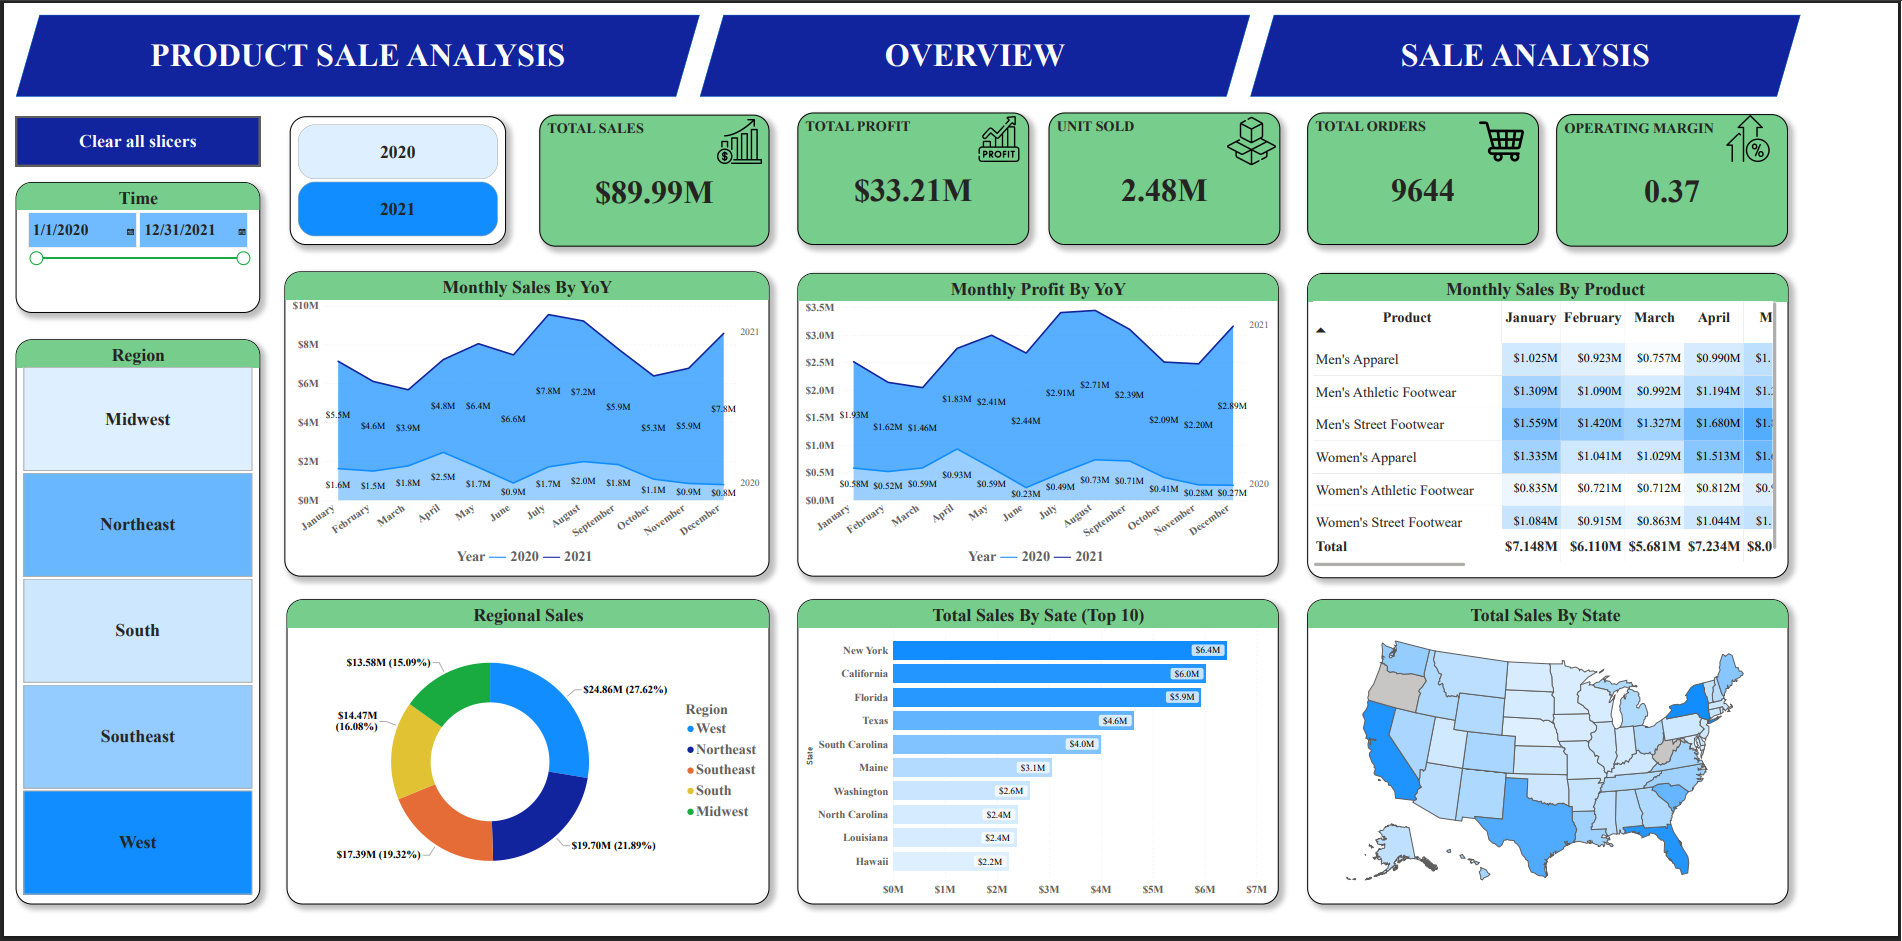

What the dashboard file says about the page in this screenshot:
{"tool":"powerbi","page":{"name":"OVERVIEW","canvas":[3500,1700],"ordinal":0},"visuals":[{"type":"shape","box":[0,0,1280,153.3],"z":0},{"type":"card","title":"TOTAL SALES","fields":{"Values":["Measures..Total Sales"]},"box":[980,186.7,430,246.7],"z":1000},{"type":"card","title":"TOTAL PROFIT","fields":{"Values":["Measures..Total Profit"]},"box":[1463.3,183.3,433.3,246.7],"z":2000,"group":"g1"},{"type":"card","title":"TOTAL ORDERS","fields":{"Values":["Measures..Total Orders"]},"box":[2416.7,183.3,433.3,246.7],"z":2000,"group":"g3"},{"type":"stackedAreaChart","title":"Monthly Sales By YoY","fields":{"Category":["SportProducts.Invoice Date.Variation.Date Hierarchy.Month"],"Series":["SportProducts.Invoice Date.Variation.Date Hierarchy.Year"],"Y":["Measures..Total Sales"]},"box":[503.3,480,906.7,570],"z":2000},{"type":"card","title":"UNIT SOLD","fields":{"Values":["Measures..Unit Sold"]},"box":[1933.3,183.3,433.3,246.7],"z":3000,"group":"g2"},{"type":"stackedAreaChart","title":"Monthly Profit By YoY","fields":{"Category":["SportProducts.Invoice Date.Variation.Date Hierarchy.Month"],"Series":["SportProducts.Invoice Date.Variation.Date Hierarchy.Year"],"Y":["Measures..Total Profit"]},"box":[1463.3,483.3,900,566.7],"z":3000},{"type":"card","title":"OPERATING MARGIN","fields":{"Values":["Measures..Profit Margin"]},"box":[2883.3,186.6,433.3,246.7],"z":4000,"group":"g4"},{"type":"donutChart","title":"Regional Sales ","fields":{"Y":["Measures..Total Sales"],"Category":["dim_Region.Region"]},"box":[506.7,1093.3,903.3,570],"z":4000},{"type":"pivotTable","title":"Monthly Sales By Product","fields":{"Rows":["dim_Product.Product"],"Columns":["SportProducts.Invoice Date.Variation.Date Hierarchy.Month"],"Values":["Measures..Total Sales"]},"box":[2416.7,483.3,900,570],"z":5000},{"type":"shapeMap","title":"Total Sales By State","fields":{"Value":["Measures..Total Sales"],"Category":["dim_Region.State"]},"box":[2416.7,1093.3,900,570],"z":6000},{"type":"clusteredBarChart","title":"Total Sales By Sate (Top 10)","fields":{"Category":["dim_Region.State"],"Y":["Measures..Total Sales"]},"box":[1463.3,1093.3,900,570],"z":7000},{"type":"advancedSlicerVisual","title":"Region","fields":{"Values":["dim_Region.Region"]},"box":[0,606.7,456.7,1056.7],"z":8000},{"type":"advancedSlicerVisual","title":"Region","fields":{"Values":["SportProducts.Invoice Date.Variation.Date Hierarchy.Year"]},"box":[513.3,190,403.3,240],"z":9000},{"type":"actionButton","box":[0,190,456.7,93.3],"z":10000},{"type":"slicer","title":"Time","fields":{"Values":["SportProducts.Invoice Date"]},"box":[0,313.3,456.7,243.3],"z":11000},{"type":"shape","box":[1280,0,1030,153.3],"z":12000},{"type":"shape","box":[2310,0,1030,153.3],"z":13000},{"type":"image","box":[1292.7,190,123.3,93.3],"z":14000},{"type":"group","id":"g1","title":"Group 1","box":[1463.3,183.3,433.3,246.7],"z":15000},{"type":"group","id":"g2","title":"Group 2","box":[1933.3,183.3,466.7,246.7],"z":16000},{"type":"image","box":[2710,190,140,93.3],"z":16000,"group":"g3"},{"type":"group","id":"g3","title":"Group 3","box":[2416.7,183.3,433.3,246.7],"z":17000},{"type":"group","id":"g4","title":"Group 5","box":[2883.3,183.3,433.3,250],"z":18000},{"type":"image","box":[1783.3,186.6,113.3,93.3],"z":18000,"group":"g1"},{"type":"image","box":[2226.6,186.6,173.3,100],"z":19000,"group":"g2"},{"type":"image","box":[3166.6,183.3,150,96.7],"z":22005,"group":"g4"}]}

Visuals, with their boxes in screenshot pixels (x1, y1, x2, y2), scaled from the page's 3500x1700 canvas onto the 1902x941 screenshot:
shape: 0/0/696/85
"TOTAL SALES" card: 533/103/766/240
"TOTAL PROFIT" card: 795/101/1031/238
"TOTAL ORDERS" card: 1313/101/1549/238
"Monthly Sales By YoY" stackedAreaChart: 274/266/766/581
"UNIT SOLD" card: 1051/101/1286/238
"Monthly Profit By YoY" stackedAreaChart: 795/268/1284/581
"OPERATING MARGIN" card: 1567/103/1802/240
"Regional Sales " donutChart: 275/605/766/921
"Monthly Sales By Product" pivotTable: 1313/268/1802/583
"Total Sales By State" shapeMap: 1313/605/1802/921
"Total Sales By Sate (Top 10)" clusteredBarChart: 795/605/1284/921
"Region" advancedSlicerVisual: 0/336/248/921
"Region" advancedSlicerVisual: 279/105/498/238
actionButton: 0/105/248/157
"Time" slicer: 0/173/248/308
shape: 696/0/1255/85
shape: 1255/0/1815/85
image: 702/105/769/157
"Group 1" group: 795/101/1031/238
"Group 2" group: 1051/101/1304/238
image: 1473/105/1549/157
"Group 3" group: 1313/101/1549/238
"Group 5" group: 1567/101/1802/240
image: 969/103/1031/155
image: 1210/103/1304/159
image: 1721/101/1802/155
